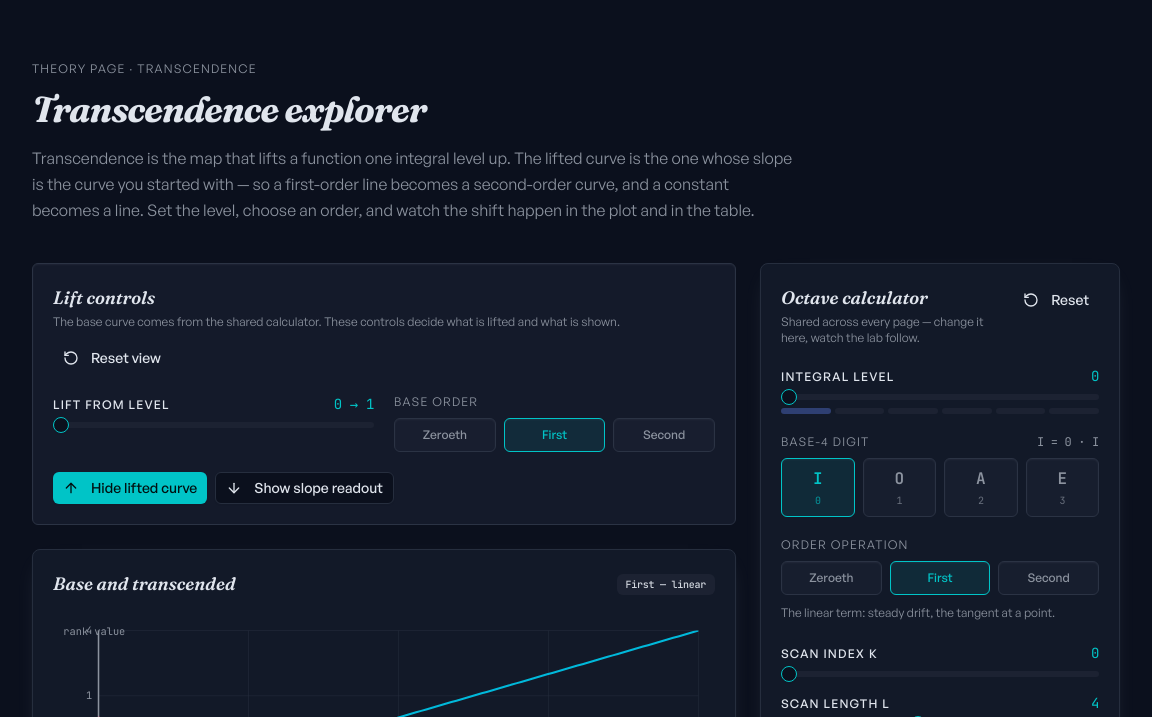
Scenario: TranscendencePage › switches the base order and updates the plot label
Click the radio button with test id "transcendence.order.3" at (664, 435), box [613,418,715,452]
(page scrolled)
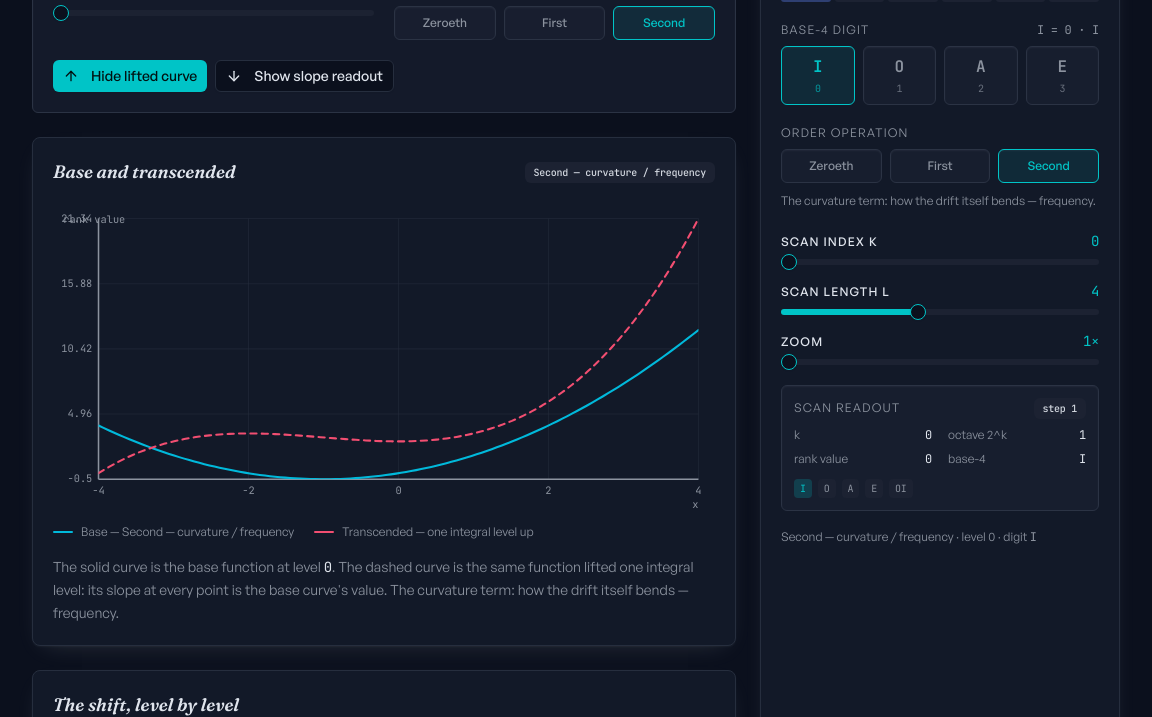
Expected: the picture named "base second order curve" is shown, [53,202,715,512]
